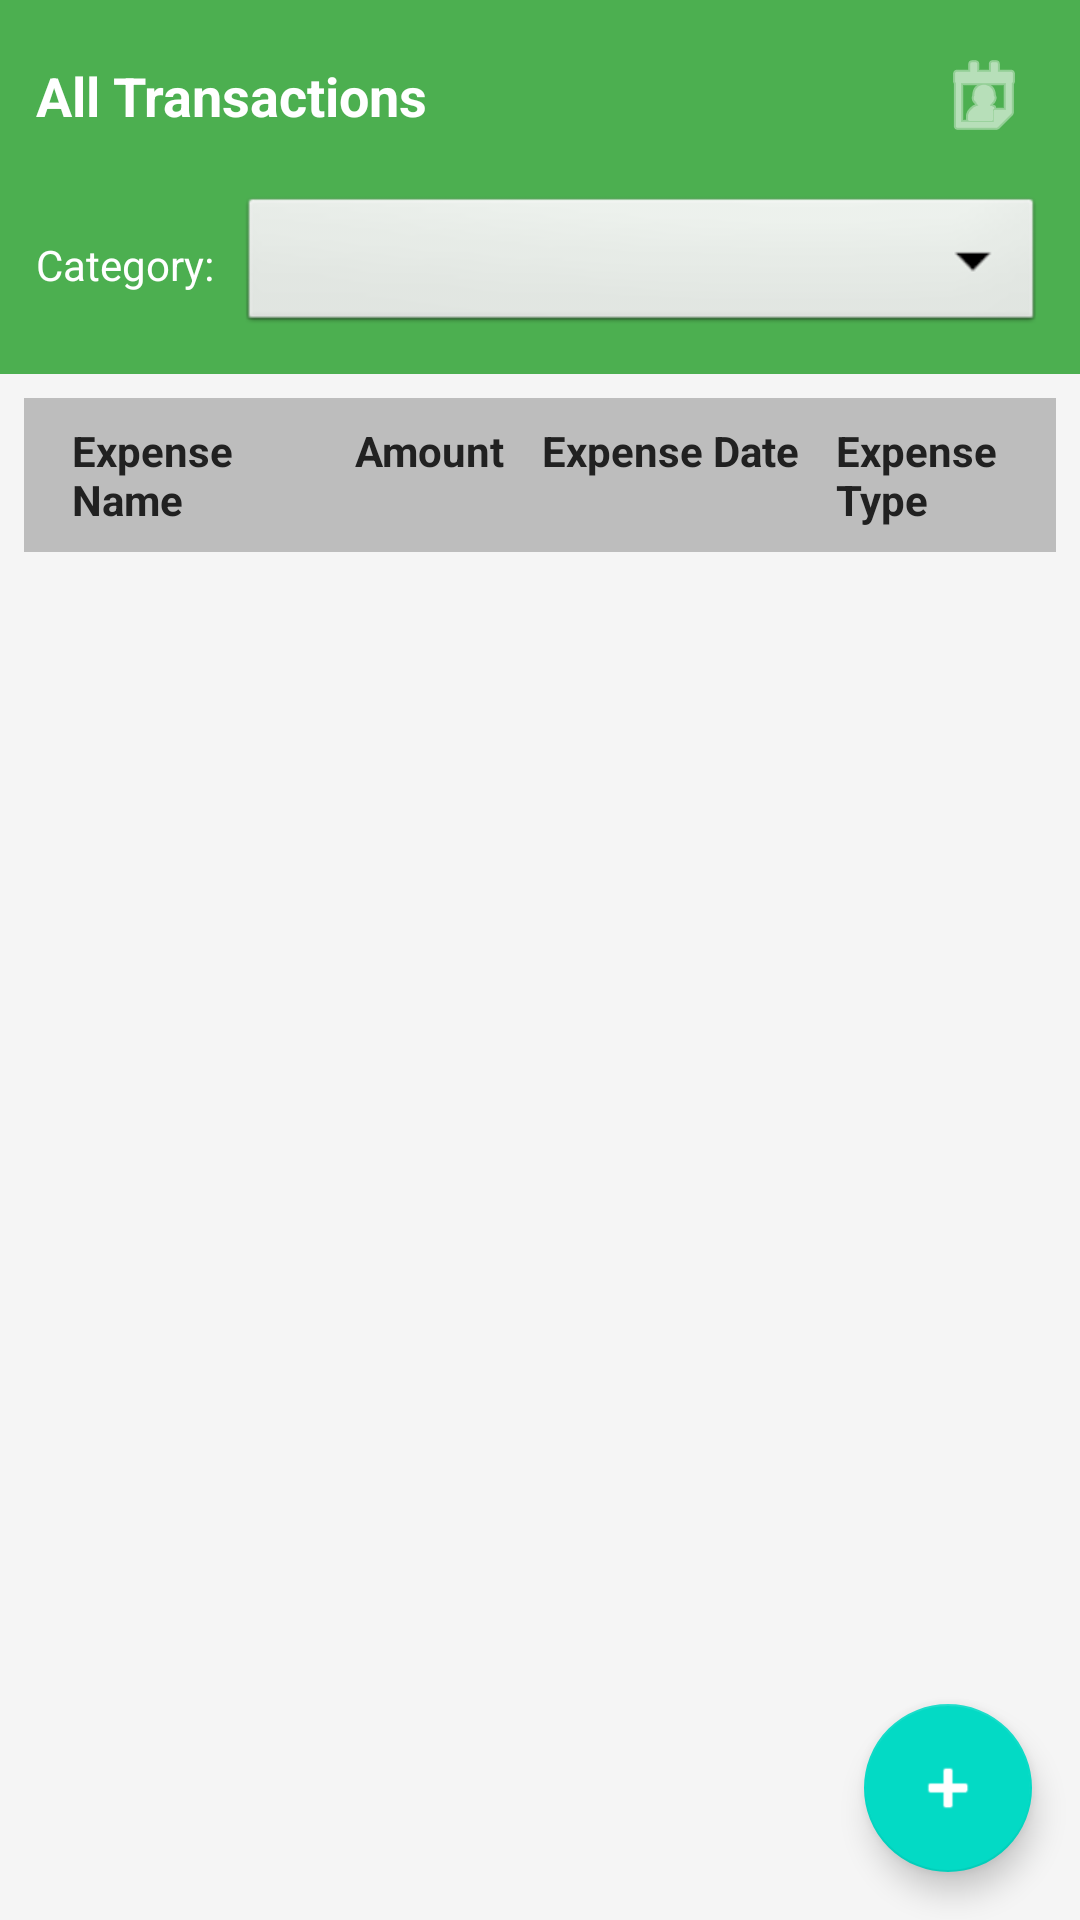

Icon bounding boxes for this 1080px x 1920px phone screenshot, format region(x1, y1, x2, y2):
add: region(864, 1704, 1032, 1872)
Select Month/Year: region(953, 60, 1015, 130)
